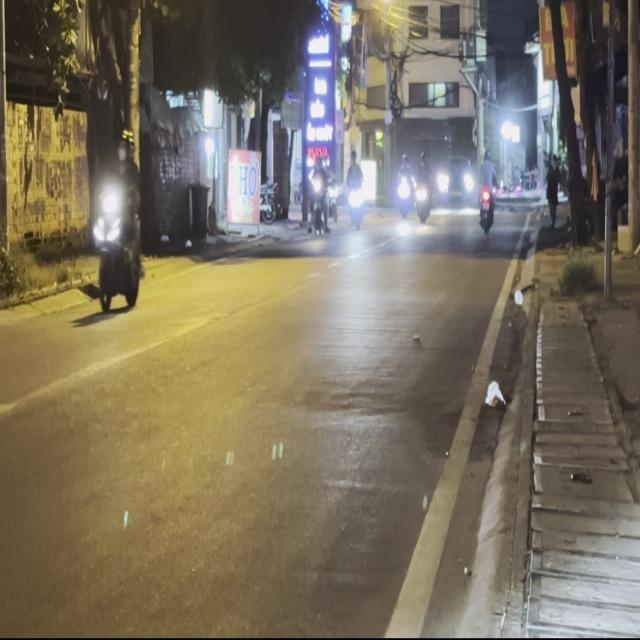helmet: (117, 128, 134, 161)
licenseplate: (89, 126, 147, 315)
